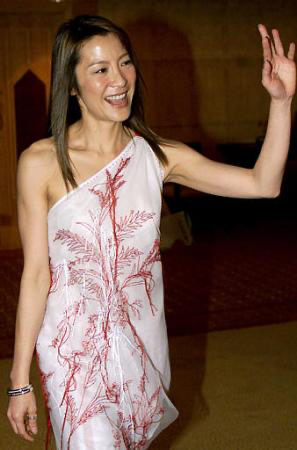Face: (74, 49, 146, 125)
